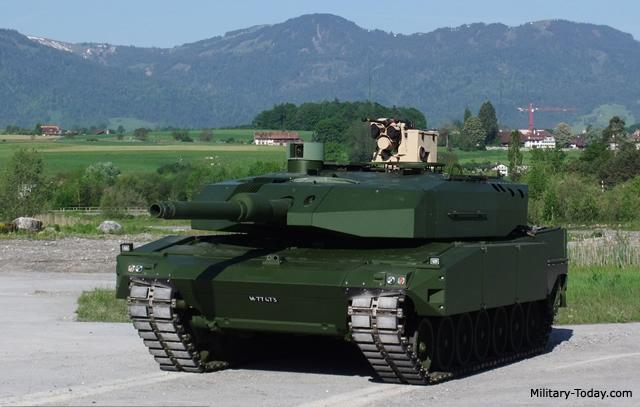tank: (126, 162, 562, 373)
